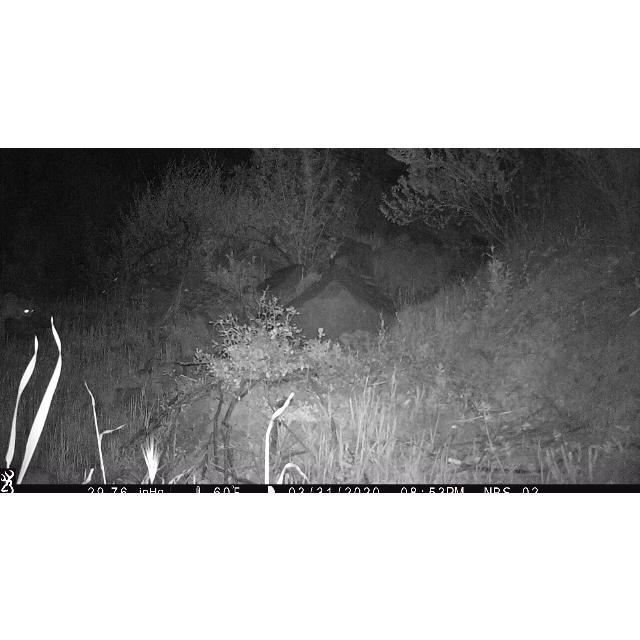animals: (0, 291, 36, 323)
